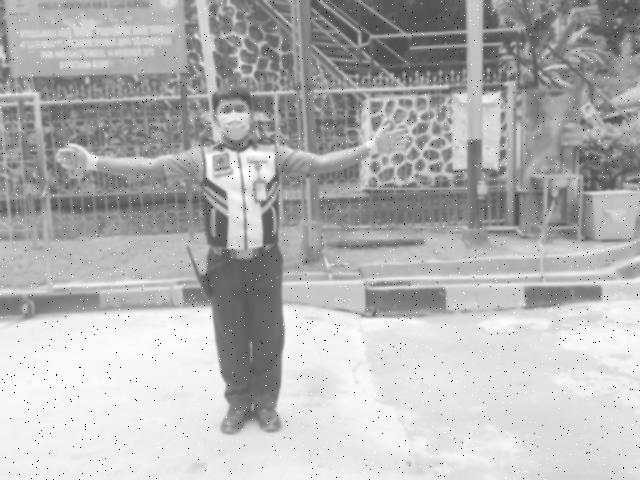gloves: (362, 121, 411, 158), (54, 141, 103, 175)
mask: (220, 115, 250, 140)
safety-shoes: (218, 402, 253, 436), (253, 405, 284, 434)
